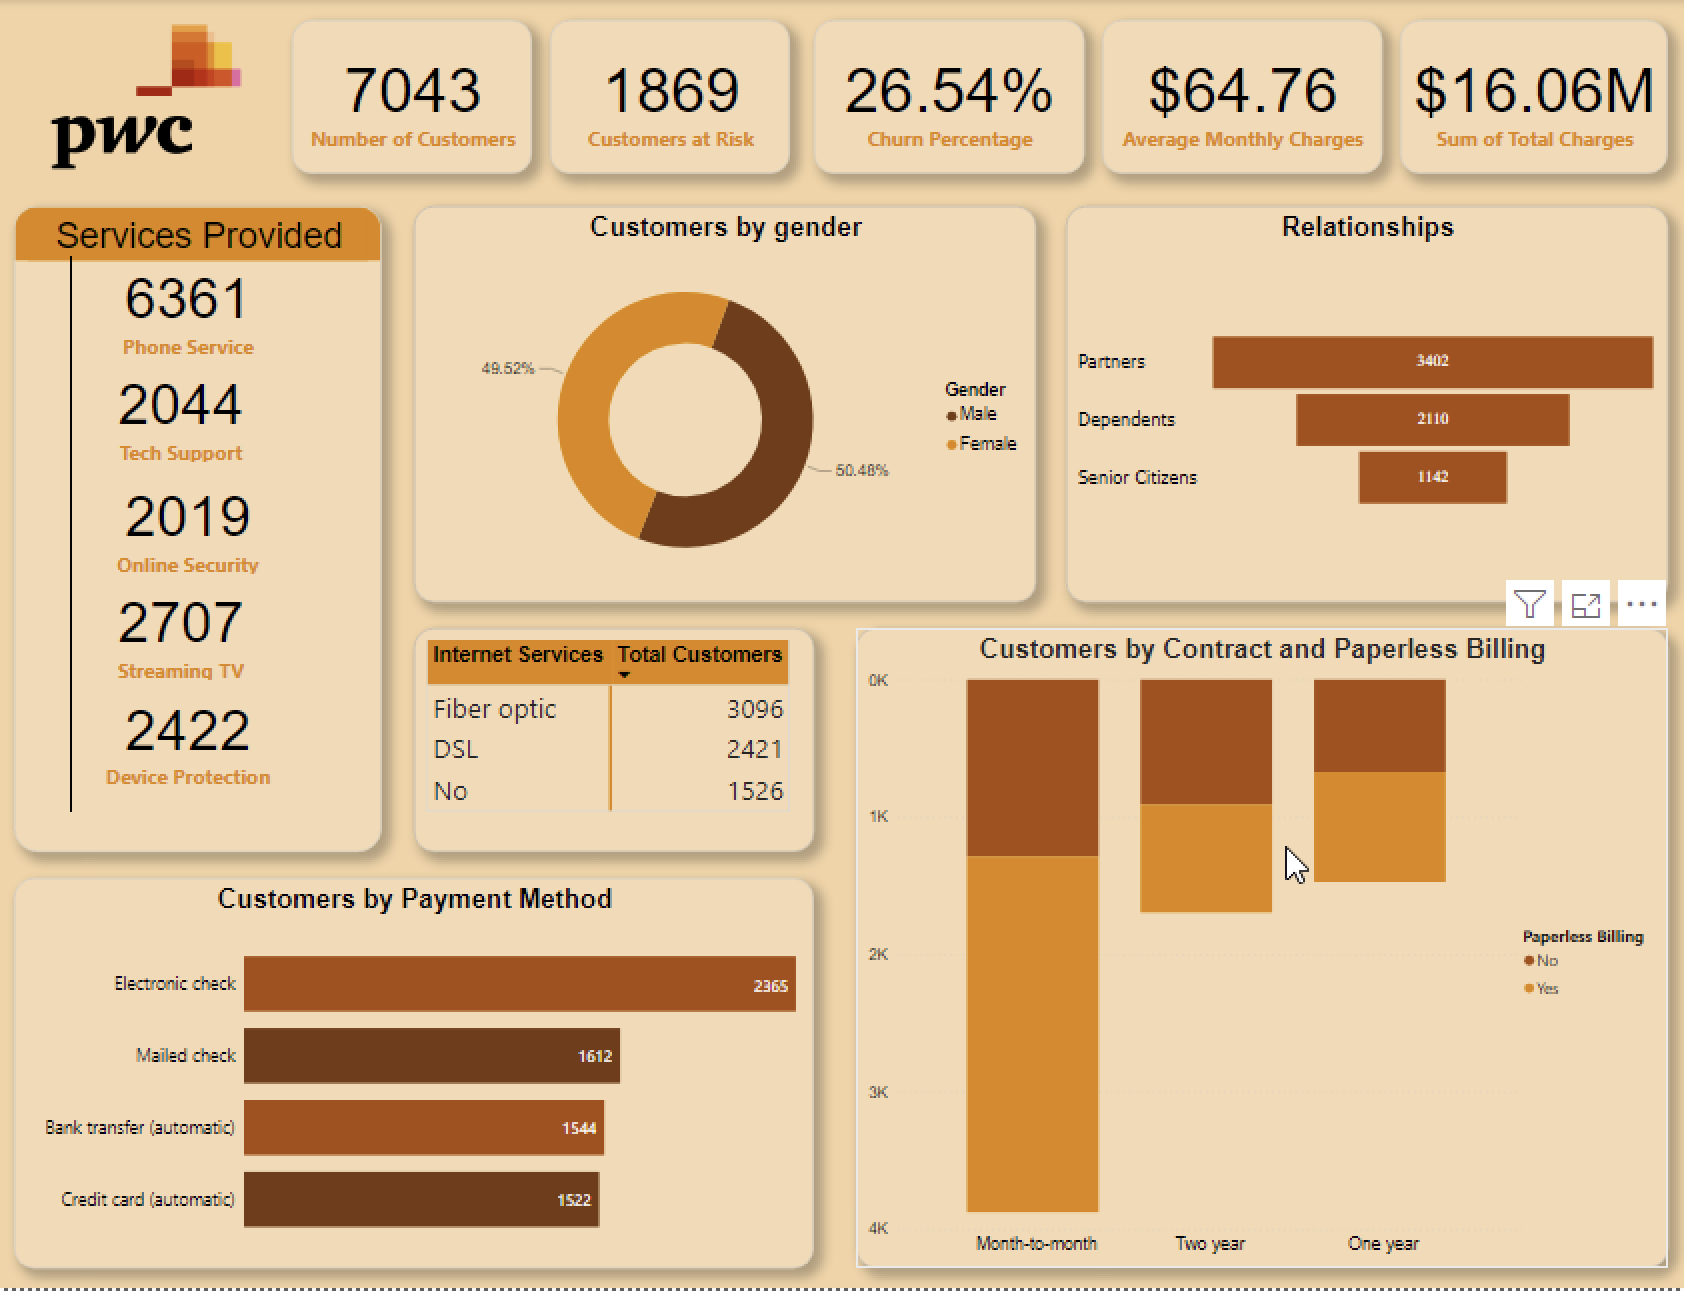

Layout of this report page (visuals, bound fields, positions):
{"tool":"powerbi","page":{"name":"Page 1","canvas":[1700,1300],"ordinal":0},"visuals":[{"type":"card","title":"Customers at Risk","fields":{"Values":["CountNonNull(01 Churn-Dataset.customerID)"]},"box":[555.1,20.2,242.2,155.4],"z":0},{"type":"image","box":[0,20.2,294.7,155.4],"z":1000},{"type":"card","title":"Customers at Risk","fields":{"Values":["CountNonNull(01 Churn-Dataset.customerID)"]},"box":[294.7,20.2,242.2,155.4],"z":2000},{"type":"card","title":"Customers at Risk","fields":{"Values":["Avg(01 Churn-Dataset.MonthlyCharges)"]},"box":[1112.3,20.2,282.6,155.4],"z":3000},{"type":"card","title":"Customers at Risk","fields":{"Values":["Sum(01 Churn-Dataset.TotalCharges)"]},"box":[1413,20.2,270.5,155.4],"z":4000},{"type":"barChart","title":"Customers by Payment Method","fields":{"Category":["01 Churn-Dataset.PaymentMethod"],"Y":["CountNonNull(01 Churn-Dataset.customerID)"]},"box":[14.1,886.2,807.5,393.6],"z":5000},{"type":"group","id":"g1","title":"Group 1","box":[14.1,207.9,371.4,652],"z":6000},{"type":"textbox","title":"Services Provided","box":[14.1,207.9,371.4,652],"z":7000,"group":"g1"},{"type":"funnel","title":"Relationships","fields":{"Y":["01 Churn-Dataset.Part","01 Churn-Dataset.depends","01 Churn-Dataset.sen"]},"box":[1075.9,207.9,607.6,399.7],"z":7000},{"type":"shape","box":[42.4,258.9,58.5,561.3],"z":8000,"group":"g1"},{"type":"donutChart","title":"Customers by gender","fields":{"Category":["01 Churn-Dataset.gender"],"Y":["CountNonNull(01 Churn-Dataset.customerID)"]},"box":[417.9,207.9,627.8,399.7],"z":8000},{"type":"card","title":"jhHZhzjjj","fields":{"Values":["CountNonNull(01 Churn-Dataset.PhoneService)"]},"box":[100.9,258.9,177.6,103.9],"z":9000,"group":"g1"},{"type":"tableEx","fields":{"Values":["01 Churn-Dataset.InternetService","CountNonNull(01 Churn-Dataset.customerID)"]},"box":[417.9,633.9,403.7,226.1],"z":9000},{"type":"card","fields":{"Values":["CountNonNull(01 Churn-Dataset.TechSupport)"]},"box":[86.8,362.9,191.8,107.7],"z":10000,"group":"g1"},{"type":"lineStackedColumnComboChart","title":"Customers by Contract and Paperless Billing","fields":{"Category":["01 Churn-Dataset.Contract"],"Series":["01 Churn-Dataset.PaperlessBilling"],"Y":["CountNonNull(01 Churn-Dataset.customerID)"]},"box":[864,633.9,819.6,646],"z":10000},{"type":"card","title":"Customers at Risk","fields":{"Values":["01 Churn-Dataset.risk_perc"]},"box":[821.6,20.2,272.5,155.4],"z":11000},{"type":"card","fields":{"Values":["CountNonNull(01 Churn-Dataset.OnlineSecurity)"]},"box":[100.9,476.3,177.6,107.7],"z":11000,"group":"g1"},{"type":"card","fields":{"Values":["CountNonNull(01 Churn-Dataset.StreamingTV)"]},"box":[86.8,584,191.8,107.7],"z":12000,"group":"g1"},{"type":"card","fields":{"Values":["CountNonNull(01 Churn-Dataset.DeviceProtection)"]},"box":[98.6,690.5,181.7,109],"z":13000,"group":"g1"}]}

Visuals, with their boxes in screenshot pixels (x1, y1, x2, y2), scaled from the page's 1700x1300 canvas onto the 1684x1291 screenshot:
"Customers at Risk" card: <region>550, 20, 790, 174</region>
image: <region>0, 20, 292, 174</region>
"Customers at Risk" card: <region>292, 20, 532, 174</region>
"Customers at Risk" card: <region>1102, 20, 1382, 174</region>
"Customers at Risk" card: <region>1400, 20, 1668, 174</region>
"Customers by Payment Method" barChart: <region>14, 880, 814, 1271</region>
"Group 1" group: <region>14, 206, 382, 854</region>
"Services Provided" textbox: <region>14, 206, 382, 854</region>
"Relationships" funnel: <region>1066, 206, 1668, 603</region>
shape: <region>42, 257, 100, 815</region>
"Customers by gender" donutChart: <region>414, 206, 1036, 603</region>
"jhHZhzjjj" card: <region>100, 257, 276, 360</region>
tableEx - 01 Churn-Dataset.InternetService x CountNonNull(01 Churn-Dataset.customerID): <region>414, 630, 814, 854</region>
card - CountNonNull(01 Churn-Dataset.TechSupport): <region>86, 360, 276, 467</region>
"Customers by Contract and Paperless Billing" lineStackedColumnComboChart: <region>856, 630, 1668, 1271</region>
"Customers at Risk" card: <region>814, 20, 1084, 174</region>
card - CountNonNull(01 Churn-Dataset.OnlineSecurity): <region>100, 473, 276, 580</region>
card - CountNonNull(01 Churn-Dataset.StreamingTV): <region>86, 580, 276, 687</region>
card - CountNonNull(01 Churn-Dataset.DeviceProtection): <region>98, 686, 278, 794</region>
